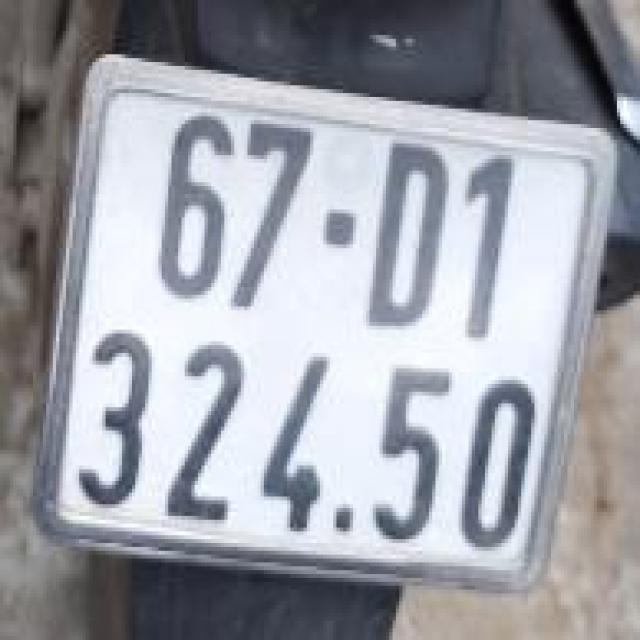0: (462, 362, 534, 556)
1: (460, 144, 523, 342)
2: (165, 334, 247, 532)
3: (74, 318, 154, 512)
4: (259, 349, 328, 535)
5: (364, 355, 454, 553)
6: (148, 95, 241, 297)
7: (228, 110, 320, 328)
D: (361, 136, 454, 341)
